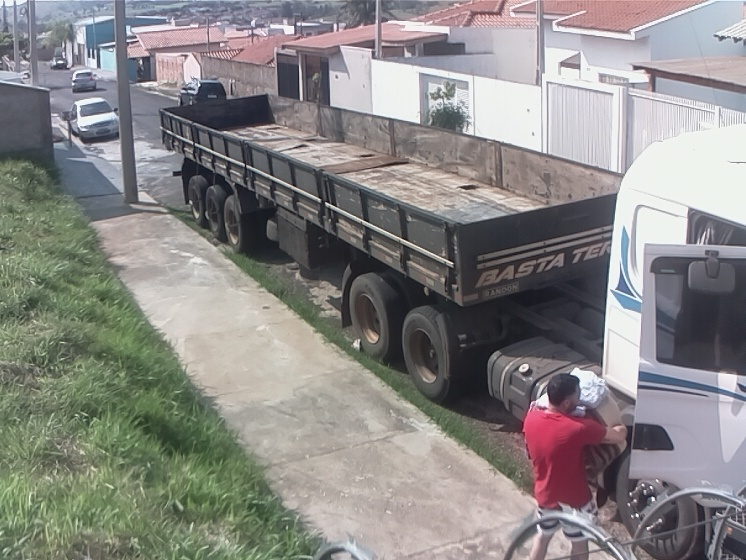person: (521, 373, 634, 560)
